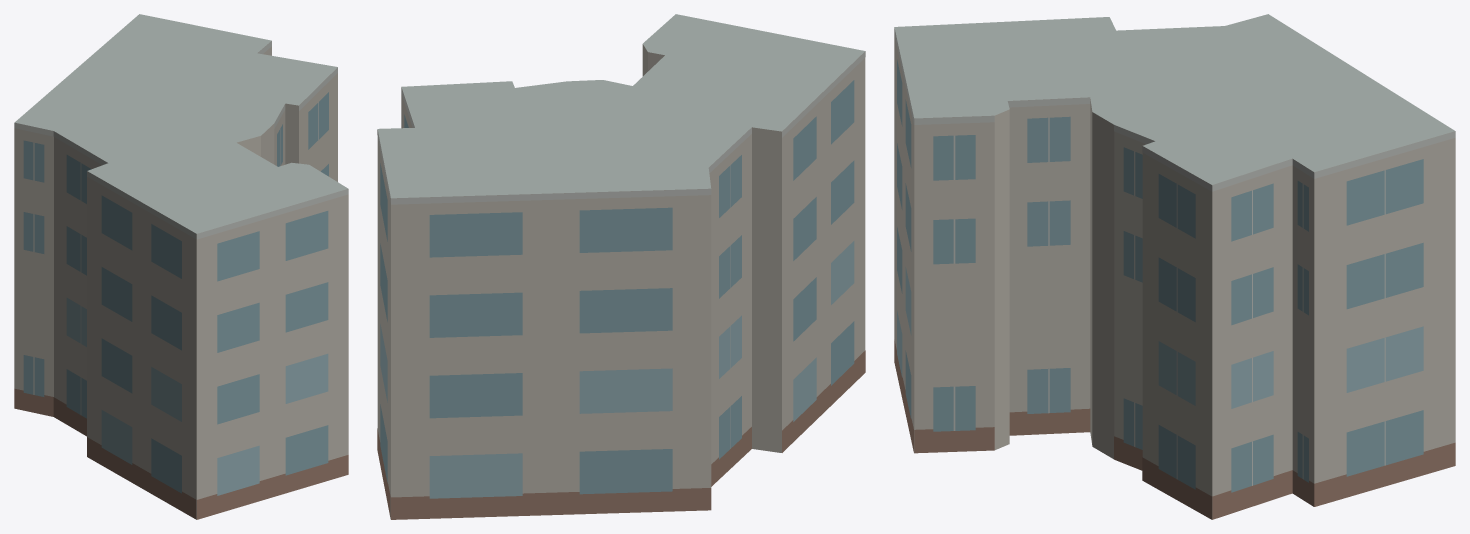
File: survey-upis-32824055.glb
3 renders of one model, left to right at view 1: azimuth 30°, elevation 25°; view 2: azimuth 150°, elevation 25°; view 3: azimuth 270°, elevation 25°, orthographic. The views are drawn at different scales.
Parts seen in each view (by area): view 1: survey-upis-32824055.tmp; view 2: survey-upis-32824055.tmp; view 3: survey-upis-32824055.tmp.
Boxes of the visible parts, box(x1,y1,x2,y2) form: survey-upis-32824055.tmp: box(14, 14, 348, 519); survey-upis-32824055.tmp: box(377, 14, 865, 519); survey-upis-32824055.tmp: box(894, 14, 1455, 519).
Bounding box in the file's own units: 13.49 × 12.3 × 18.7.
